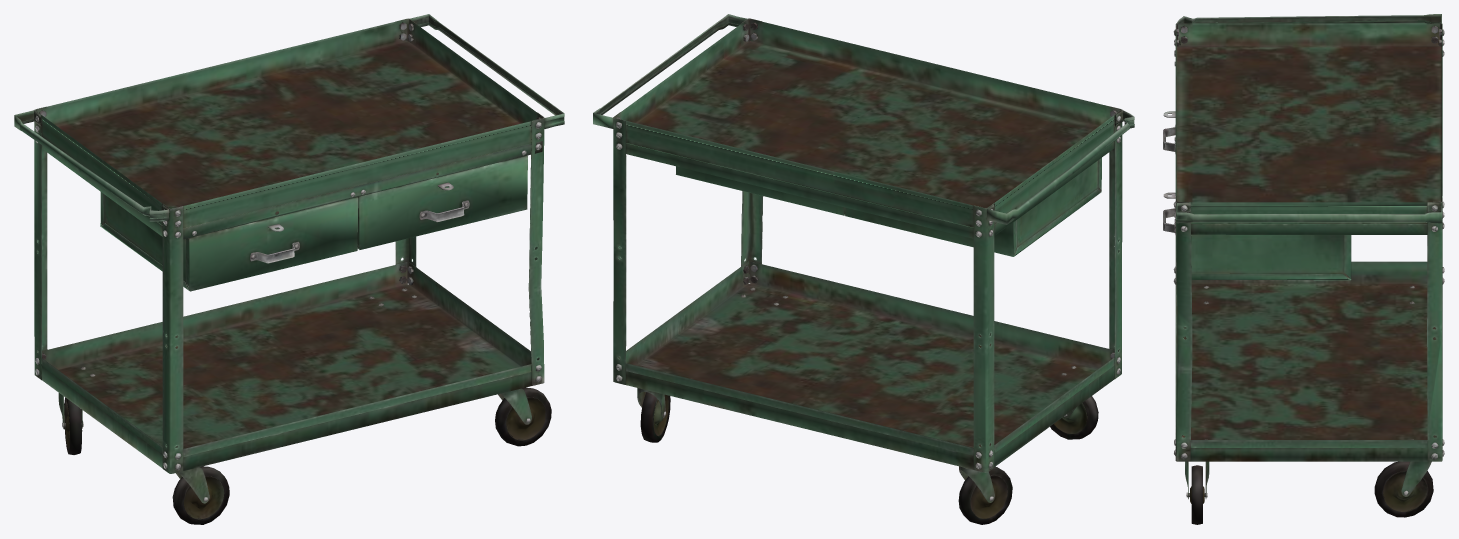
Rendered from carro_ferramenta.glb.
3 renders of one model, left to right at view 1: azimuth 30°, elevation 25°; view 2: azimuth 150°, elevation 25°; view 3: azimuth 270°, elevation 25°, orthographic. The views are drawn at different scales.
Visible parts, largest first — view 1: carro_ferramenta; view 2: carro_ferramenta; view 3: carro_ferramenta.
Boxes of the visible parts, x1,y1,x2,y2 form: carro_ferramenta: (14,14,564,524); carro_ferramenta: (593,14,1134,524); carro_ferramenta: (1163,14,1444,524).
Size of the model in its own units: 1.27 by 0.9672 by 0.7543.
Materials: 1 (1 with a texture image).
